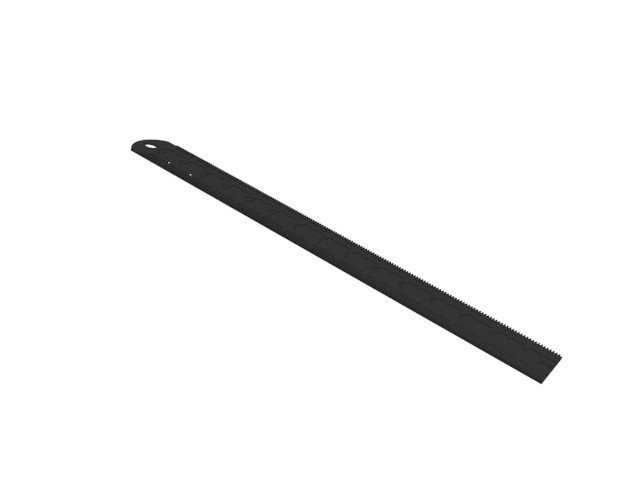ruler: (129, 137, 568, 392)
